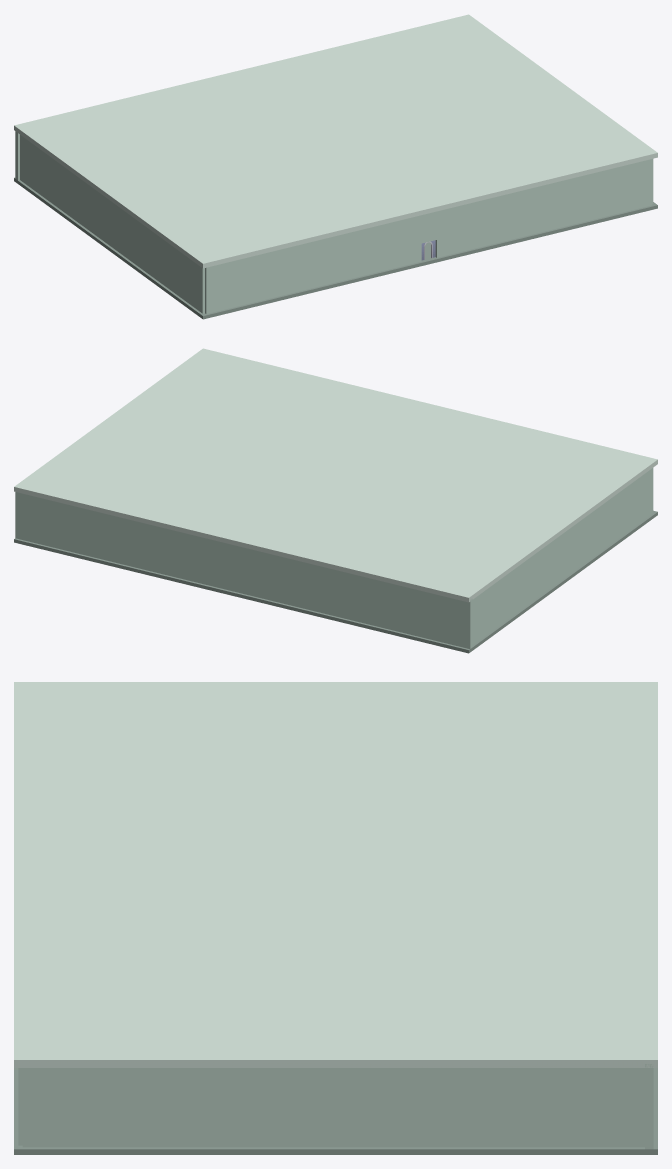
Rendered from world.glb.
3 renders of one model, top to bottom at view 1: azimuth 30°, elevation 25°; view 2: azimuth 150°, elevation 25°; view 3: azimuth 270°, elevation 25°, orthographic. The views are drawn at different scales.
Visible parts, largest first — view 1: Ceiling, Wall_S_L, Wall_S_R, Wall_W, Terrain, Wall_S_Lintel; view 2: Ceiling, Wall_N, Wall_W, Terrain; view 3: Ceiling, Wall_E, Terrain, Wall_N.
Boxes of the visible parts, x1,y1,x2,y2 form: Ceiling: (14,14,657,268); Wall_S_L: (205,215,421,313); Wall_S_R: (435,159,652,257); Wall_W: (20,135,204,313); Terrain: (14,177,657,319); Wall_S_Lintel: (421,211,437,243); Ceiling: (14,348,657,602); Wall_N: (15,492,472,648); Wall_W: (472,468,653,644); Terrain: (14,510,657,653); Ceiling: (14,682,657,1067); Wall_E: (22,1068,644,1147); Terrain: (14,1068,657,1154); Wall_N: (645,1064,653,1149).
Size of the model in its own units: 71.4 by 8.35 by 51.4.
Materials: 74 (15 with a texture image).
